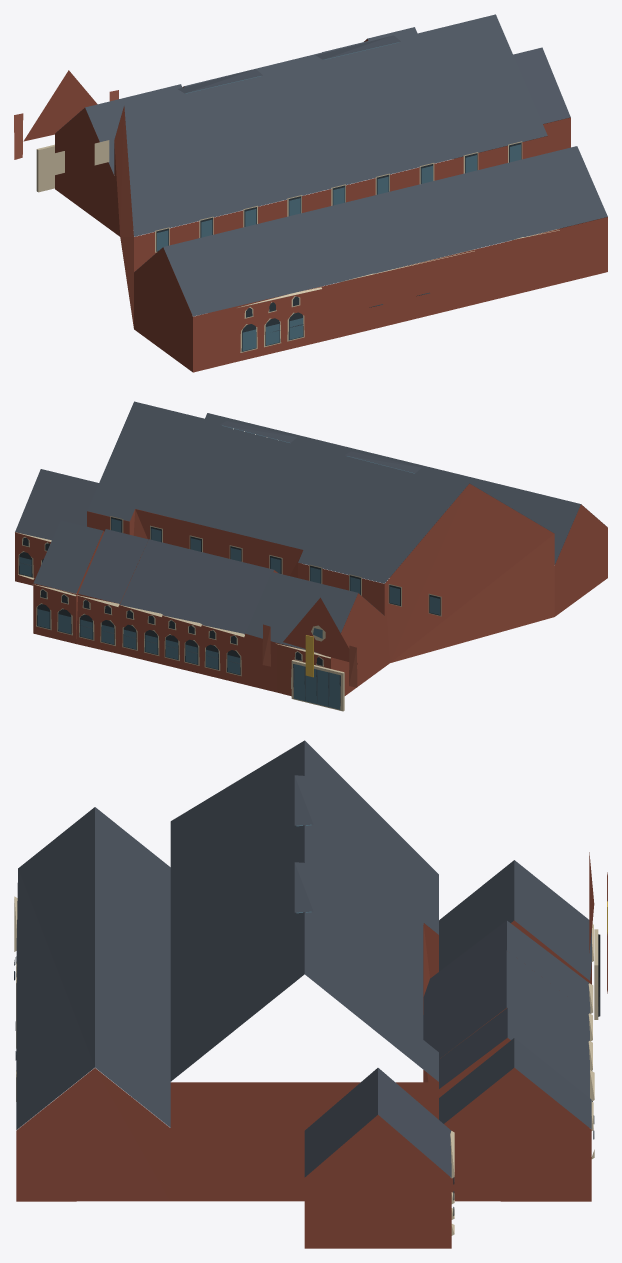
The model's file is de-krakeling.lod1.glb.
3 renders of one model, top to bottom at view 1: azimuth 30°, elevation 25°; view 2: azimuth 150°, elevation 25°; view 3: azimuth 270°, elevation 25°, orthographic. The views are drawn at different scales.
Visible parts, largest first — view 1: de-krakeling; view 2: de-krakeling; view 3: de-krakeling.
Boxes of the visible parts, box(x1,y1,x2,y2) form: de-krakeling: box(14, 14, 607, 372); de-krakeling: box(15, 401, 607, 711); de-krakeling: box(14, 740, 607, 1248).
Bounding box in the file's own units: 52.11 × 17.98 × 42.49.
